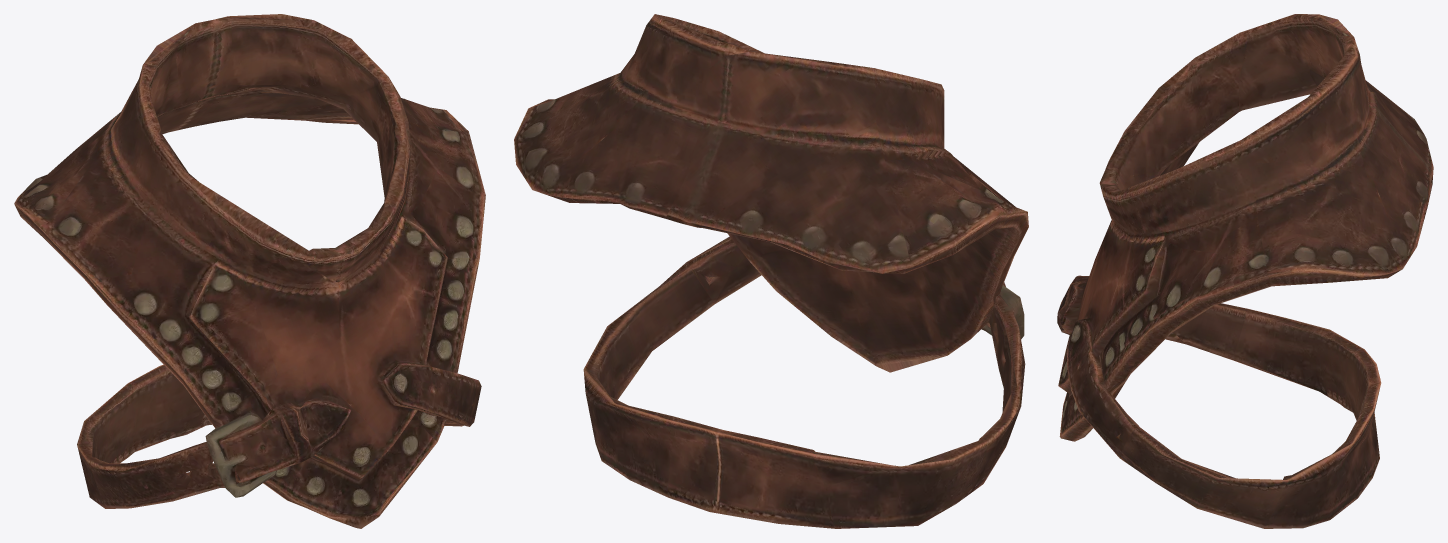
Rendered from Leather_Gorget_Armor.glb.
3 renders of one model, left to right at view 1: azimuth 30°, elevation 25°; view 2: azimuth 150°, elevation 25°; view 3: azimuth 270°, elevation 25°, orthographic. The views are drawn at different scales.
Bounding box in the file's own units: 1.88 × 1.78 × 1.47.
Materials: 1 (1 with a texture image).
